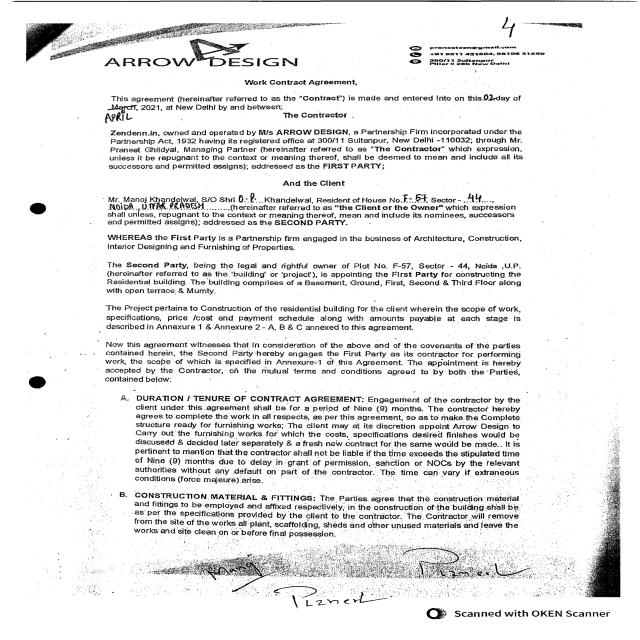page-number: (347, 2, 520, 44)
